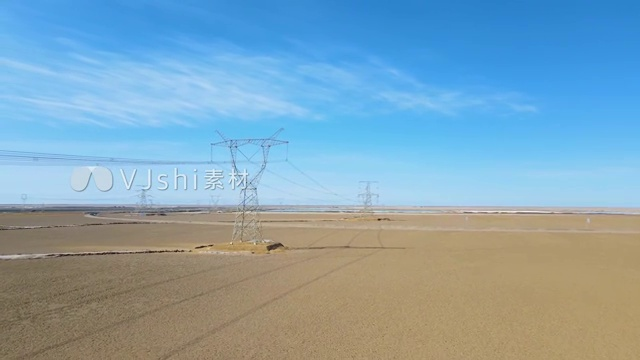tower_body: (204, 124, 299, 248)
tower_foot: (229, 210, 266, 245)
tower_head: (209, 128, 294, 187)
